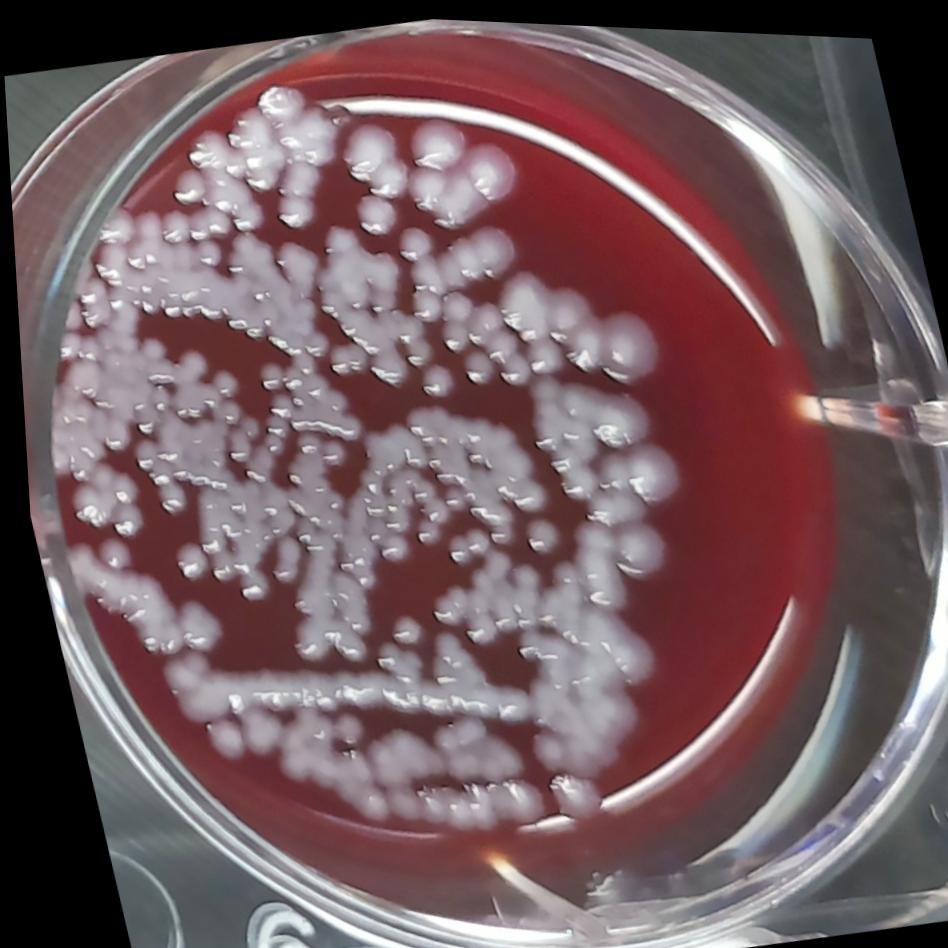smarcescens: (578, 286, 675, 391)
